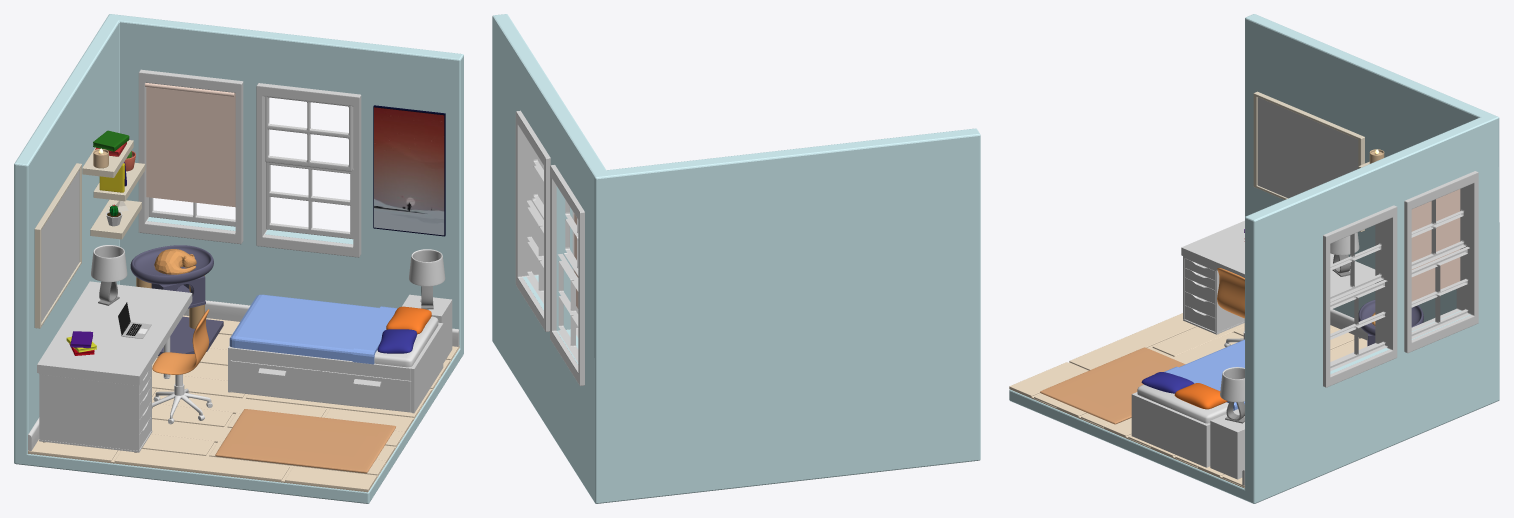
Rendered from room_joined1.glb.
3 views of the same model, side by side, from view 1: azimuth 30°, elevation 25°; view 2: azimuth 150°, elevation 25°; view 3: azimuth 270°, elevation 25° (orthographic). The views are drawn at different scales.
Visible parts, largest first — view 1: walls, Table, floor, Right Window Frame.004, Frame, Plane.006, sheets, Plane.007, Right Window Frame.001, Right Window Frame.002, Whiteboard frame.001, Right bottom glass.002 (+20 smaller); view 2: walls, Right Window Frame.001, Right Window Frame.002, Right bottom glass.001, Right bottom glass.002, Rihgt upprt glass.001; view 3: walls, floor, Whiteboard frame.001, Table, Right Window Frame.002, Right Window Frame.001, Plane.007, Frame, Right Window Frame.004, NightStand, sheets, Right bottom glass.002 (+10 smaller).
Part boxes in pixels (<box>): walls: <box>14,14,463,503</box>; Table: <box>37,281,192,452</box>; floor: <box>28,315,459,492</box>; Right Window Frame.004: <box>145,82,235,207</box>; Frame: <box>228,322,443,413</box>; Plane.006: <box>373,105,445,236</box>; sheets: <box>229,294,397,364</box>; Plane.007: <box>215,409,395,473</box>; Right Window Frame.001: <box>256,83,361,257</box>; Right Window Frame.002: <box>138,69,243,244</box>; Whiteboard frame.001: <box>41,170,79,321</box>; Right bottom glass.002: <box>266,162,353,239</box>; walls: <box>492,14,980,503</box>; Right Window Frame.001: <box>515,110,550,331</box>; Right Window Frame.002: <box>550,165,584,385</box>; Right bottom glass.001: <box>558,254,578,362</box>; Right bottom glass.002: <box>526,200,543,303</box>; Rihgt upprt glass.001: <box>564,200,578,275</box>; walls: <box>1009,14,1499,503</box>; floor: <box>1009,313,1367,488</box>; Whiteboard frame.001: <box>1257,97,1358,198</box>; Table: <box>1181,220,1375,334</box>; Right Window Frame.002: <box>1404,171,1478,353</box>; Right Window Frame.001: <box>1323,205,1397,387</box>; Plane.007: <box>1040,347,1185,424</box>; Frame: <box>1131,392,1210,467</box>; Right Window Frame.004: <box>1411,189,1460,301</box>; NightStand: <box>1210,409,1244,479</box>; sheets: <box>1164,339,1244,410</box>; Right bottom glass.002: <box>1330,280,1388,371</box>.
Size of the model in its own units: 5.67 by 3.63 by 5.67.
Materials: 44 (1 with a texture image).
